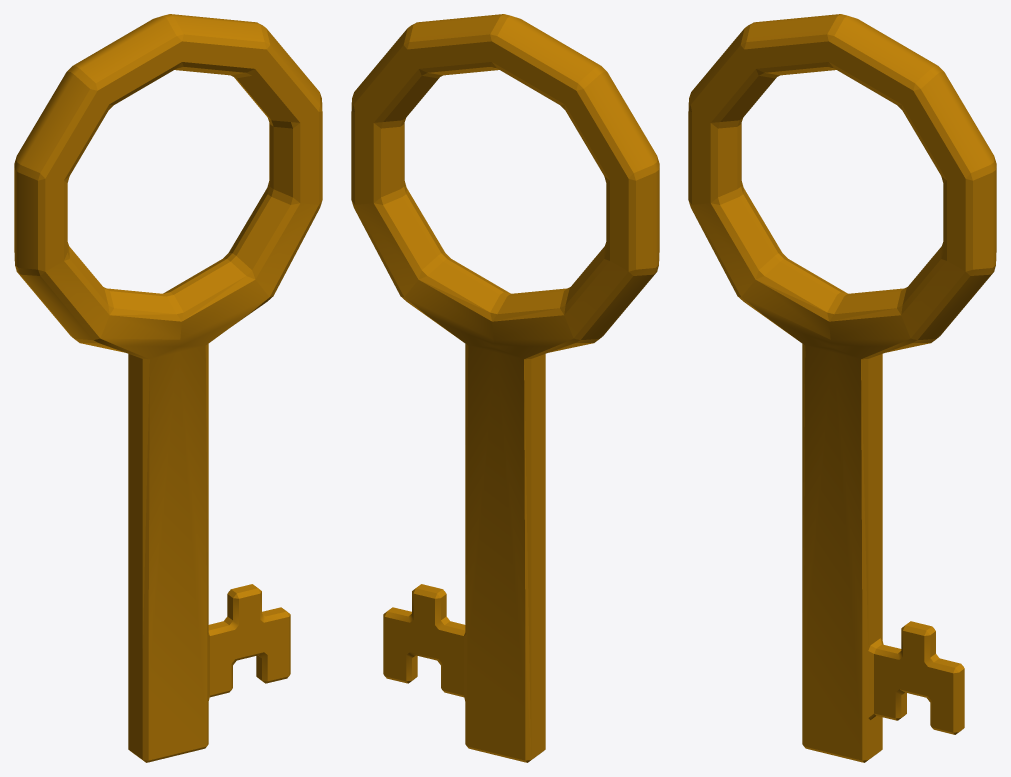
The model's file is Key.fbx.
3 views of the same model, side by side, from view 1: azimuth 30°, elevation 25°; view 2: azimuth 150°, elevation 25°; view 3: azimuth 330°, elevation 25° (orthographic).
Parts seen in each view (by area): view 1: Key; view 2: Key; view 3: Key.
Boxes of the visible parts, left/top/right/bottom form: Key: left=14, top=14, right=322, bottom=762; Key: left=351, top=14, right=659, bottom=762; Key: left=688, top=14, right=996, bottom=762.
Bounding box in the file's own units: 30.56 × 70.69 × 5.77.
